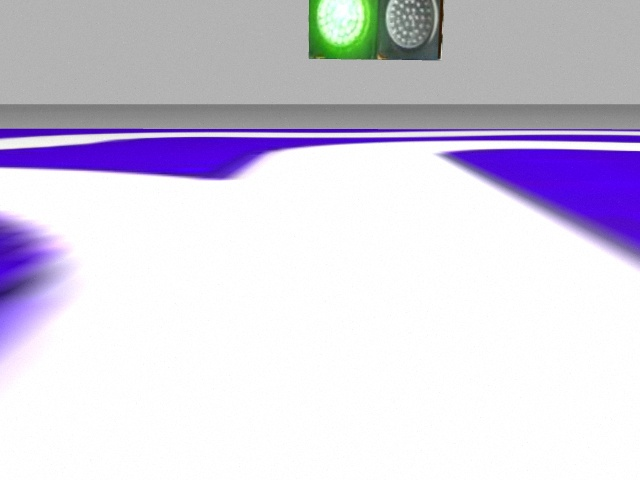green: (310, 1, 378, 58)
